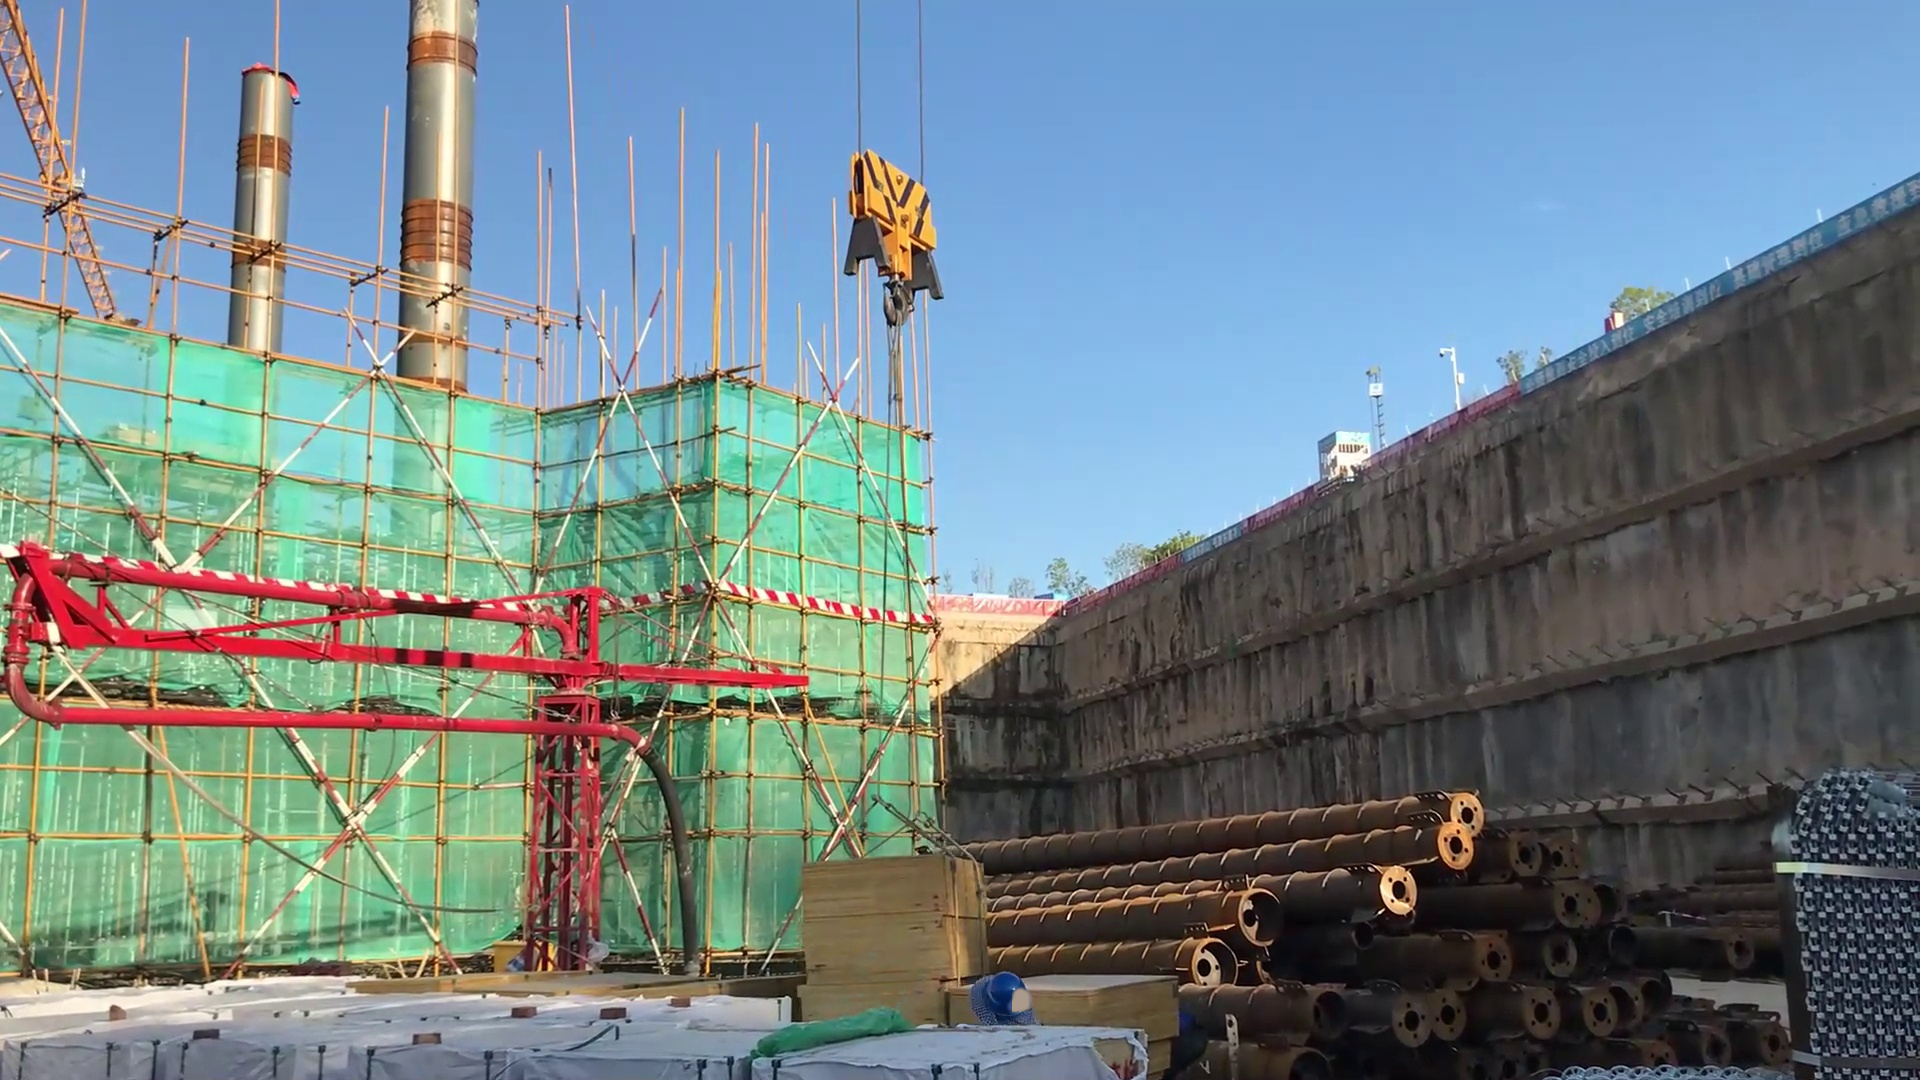board: (803, 853, 982, 1046), (952, 963, 1185, 1067)
ebox: (488, 942, 556, 981)
helmet: (975, 965, 1036, 1026)
hook: (820, 138, 969, 392)
scaffold: (1764, 760, 1917, 1080)
slogan: (1502, 162, 1920, 400), (1162, 514, 1255, 567)
